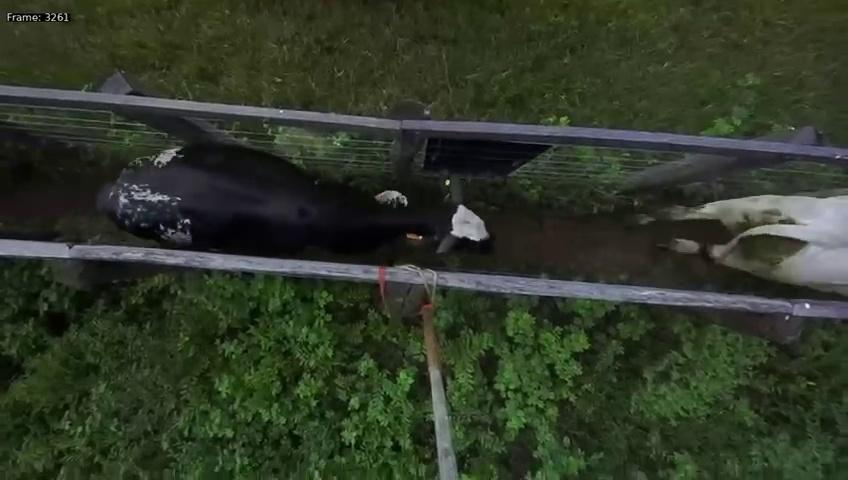cattle: (95, 135, 497, 285)
